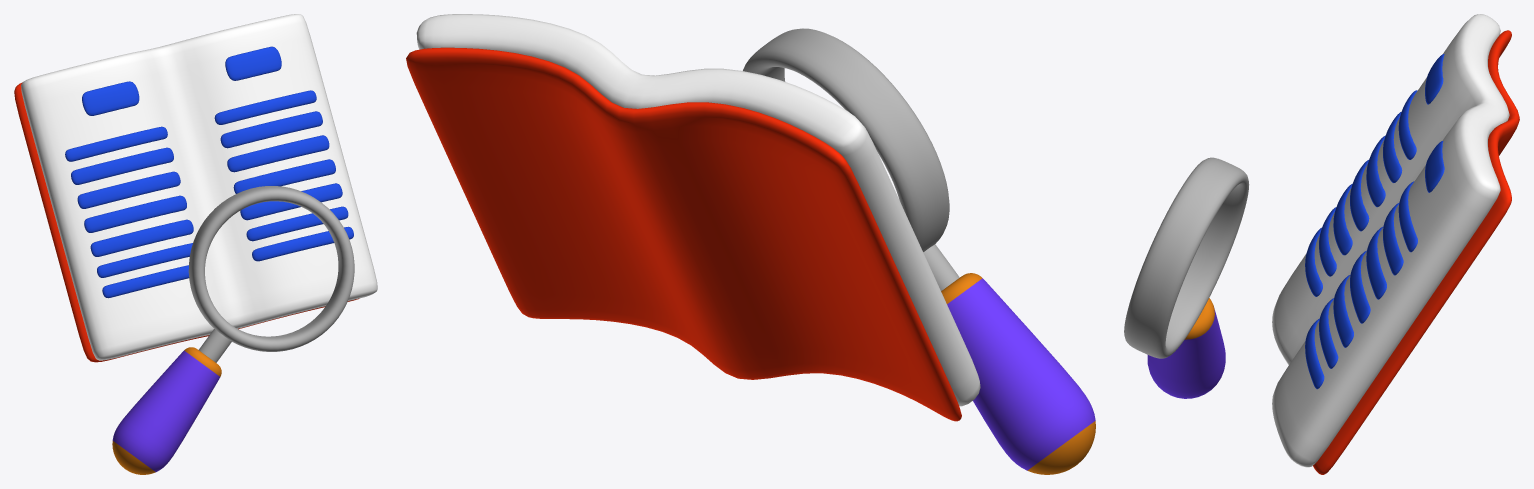
Rendered from Case Study.glb.
The picture shows the model from 3 angles, left to right: view 1: azimuth 30°, elevation 25°; view 2: azimuth 150°, elevation 25°; view 3: azimuth 270°, elevation 25°; orthographic projection. The views are drawn at different scales.
Parts seen in each view (by area): view 1: Plane.001, Plane.010, Circle, Cylinder.001, Plane, Cylinder; view 2: Plane, Plane.001, Cylinder.001, Circle, Cylinder; view 3: Plane.001, Circle, Plane.010, Plane, Cylinder.001.
Boxes of the visible parts, x1,y1,x2,y2 form: Plane.001: (21, 14, 377, 360); Plane.010: (65, 46, 353, 298); Circle: (188, 186, 354, 351); Cylinder.001: (112, 347, 221, 474); Plane: (14, 82, 359, 362); Cylinder: (199, 329, 231, 362); Plane: (406, 47, 961, 421); Plane.001: (416, 14, 980, 406); Cylinder.001: (941, 273, 1095, 474); Circle: (743, 28, 949, 251); Cylinder: (923, 244, 959, 290); Plane.001: (1272, 14, 1509, 467); Circle: (1124, 157, 1249, 358); Plane.010: (1305, 54, 1444, 389); Plane: (1313, 30, 1519, 474); Cylinder.001: (1147, 298, 1225, 398).
Size of the model in its own units: 5.76 by 5.62 by 5.13.
